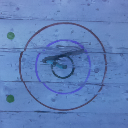Axe Tip: (47, 57, 59, 59)
